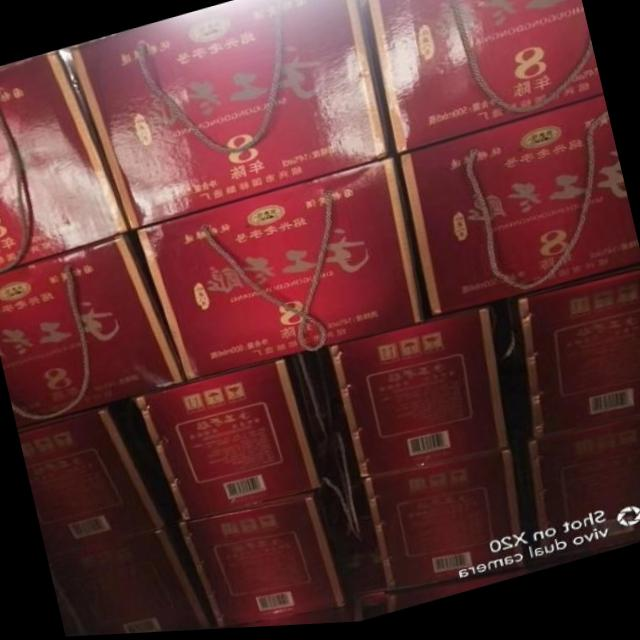box: (67, 0, 388, 231), (135, 161, 423, 382), (401, 100, 640, 320), (367, 0, 603, 156), (0, 236, 184, 432), (130, 356, 334, 523), (330, 314, 505, 482), (0, 50, 127, 272), (180, 489, 343, 631), (18, 409, 166, 559), (364, 456, 526, 593), (518, 271, 640, 445), (50, 532, 210, 637), (528, 423, 640, 566)
